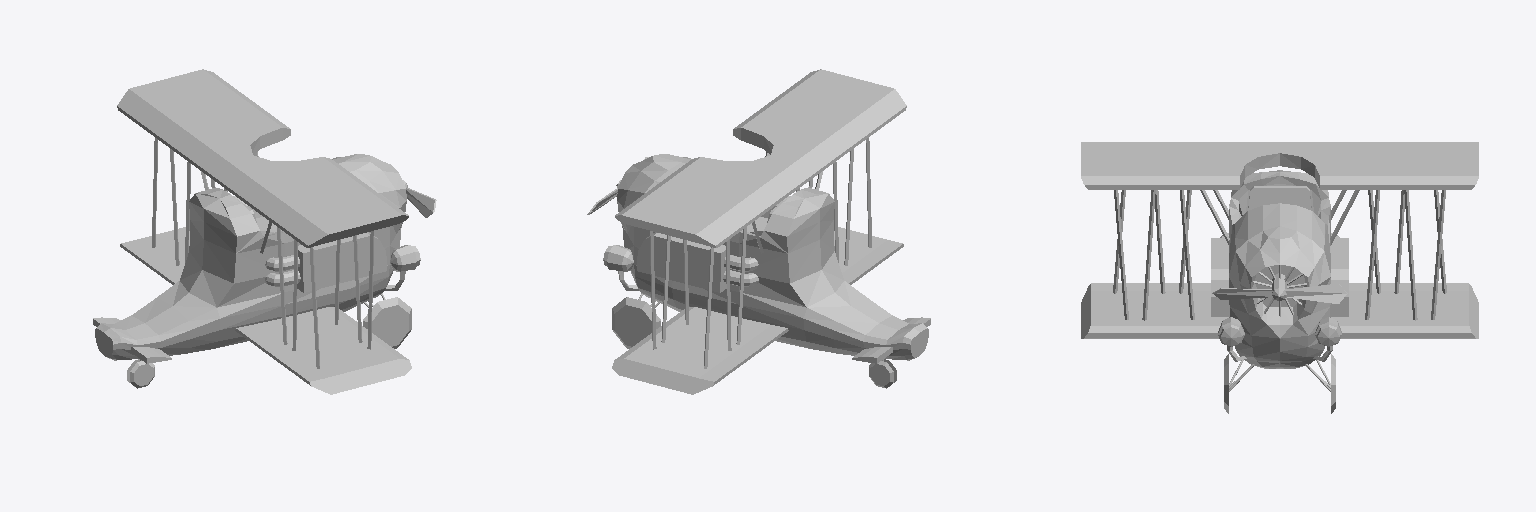
File: Sam.obj
3 views of the same model, side by side, from view 1: azimuth 30°, elevation 25°; view 2: azimuth 150°, elevation 25°; view 3: azimuth 270°, elevation 25° (orthographic).
Visible parts, largest first — view 1: Krulya2; view 2: Krulya2; view 3: Krulya2.
Boxes of the visible parts, x1=… form: Krulya2: x1=93, y1=69, x2=436, y2=394; Krulya2: x1=587, y1=69, x2=930, y2=394; Krulya2: x1=1081, y1=142, x2=1478, y2=413.
Size of the model in its own units: 8.07 by 5.19 by 9.17.